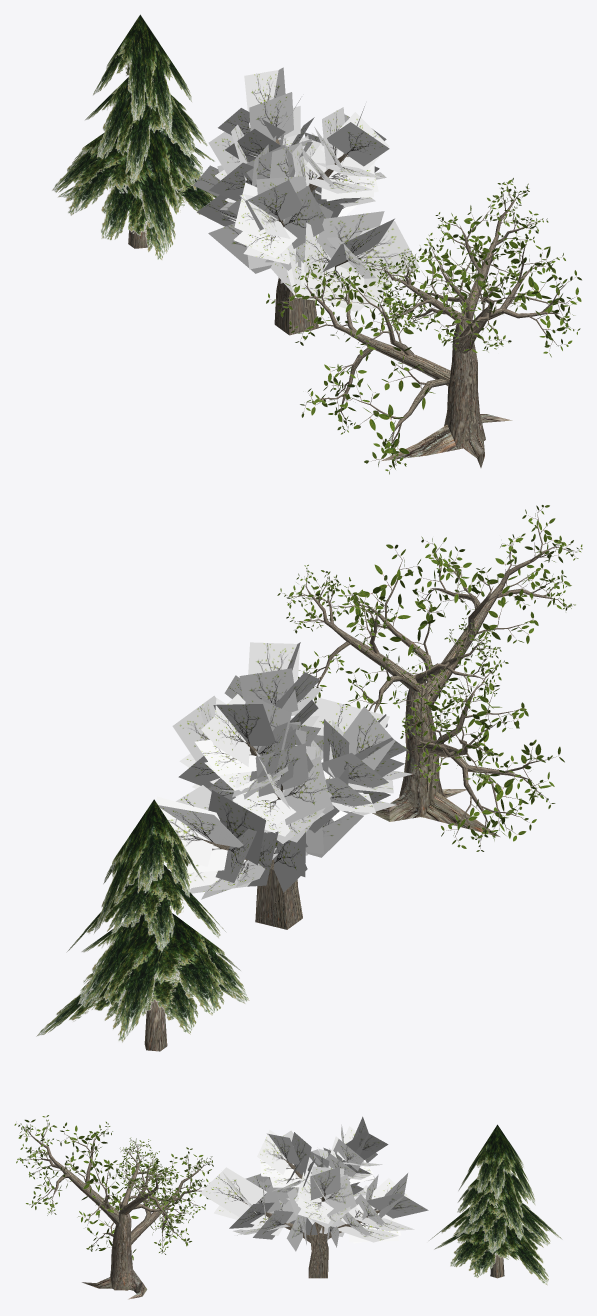
The model's file is arbol (1).glb.
3 renders of one model, top to bottom at view 1: azimuth 30°, elevation 25°; view 2: azimuth 150°, elevation 25°; view 3: azimuth 270°, elevation 25°, orthographic. The views are drawn at different scales.
Parts seen in each view (by area): view 1: Box001, Cylinder002, Cylinder001; view 2: Box001, Cylinder002, Cylinder001; view 3: Box001, Cylinder002, Cylinder001.
Part boxes in pixels (left/top/right/bottom): Box001: left=193, top=67, right=419, bottom=335; Cylinder002: left=266, top=178, right=581, bottom=474; Cylinder001: left=52, top=14, right=216, bottom=260; Box001: left=156, top=642, right=412, bottom=929; Cylinder002: left=277, top=505, right=582, bottom=851; Cylinder001: left=36, top=799, right=249, bottom=1051; Box001: left=200, top=1116, right=428, bottom=1278; Cylinder002: left=14, top=1115, right=213, bottom=1299; Cylinder001: left=429, top=1124, right=562, bottom=1285.
Size of the model in its own units: 1.12 by 1.07 by 3.34.
4 materials, 4 textured.
